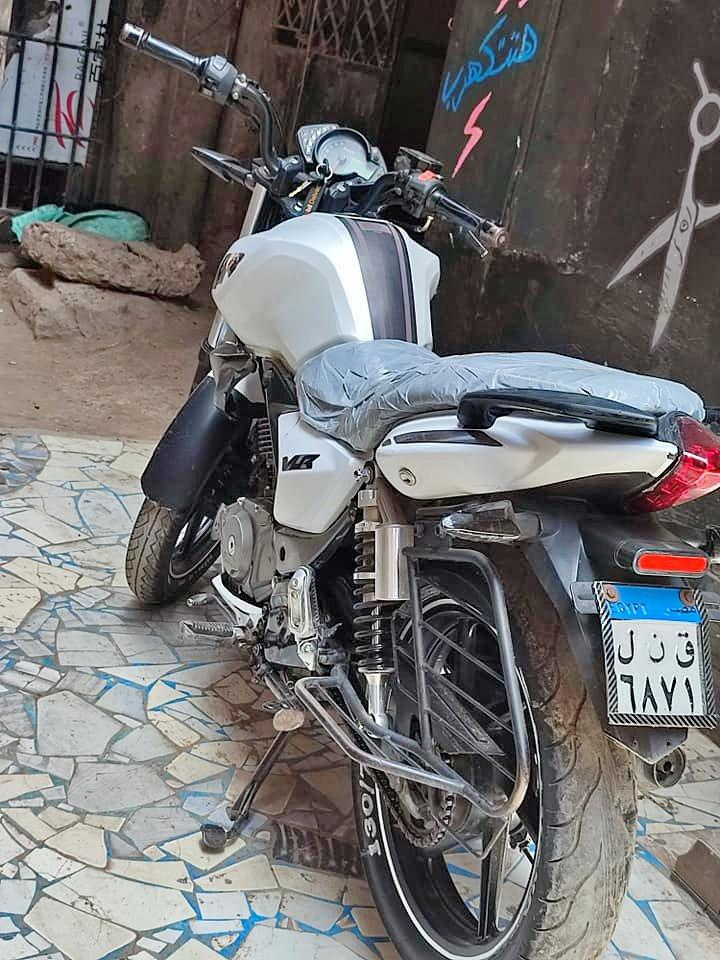License Plate: (599, 576, 713, 721)
